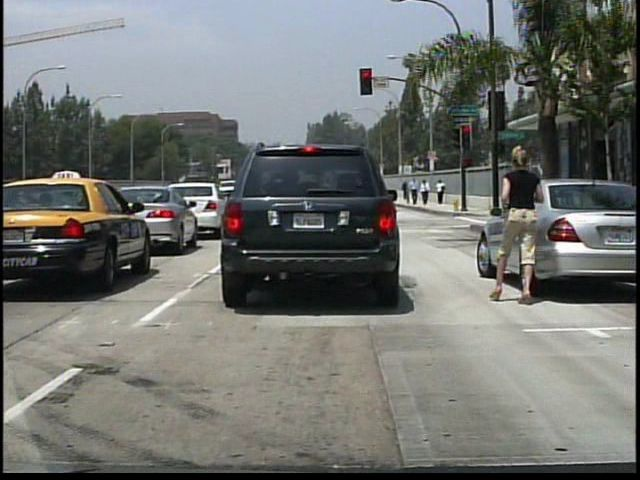person: (500, 133, 550, 310), (435, 178, 446, 205), (411, 177, 421, 205), (421, 178, 431, 205), (402, 179, 411, 201)
